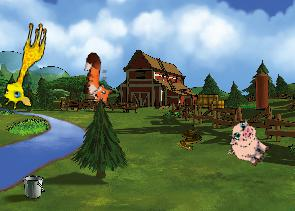fox: (79, 52, 120, 107)
giraffe: (0, 18, 49, 112)
pig: (220, 116, 276, 171)
